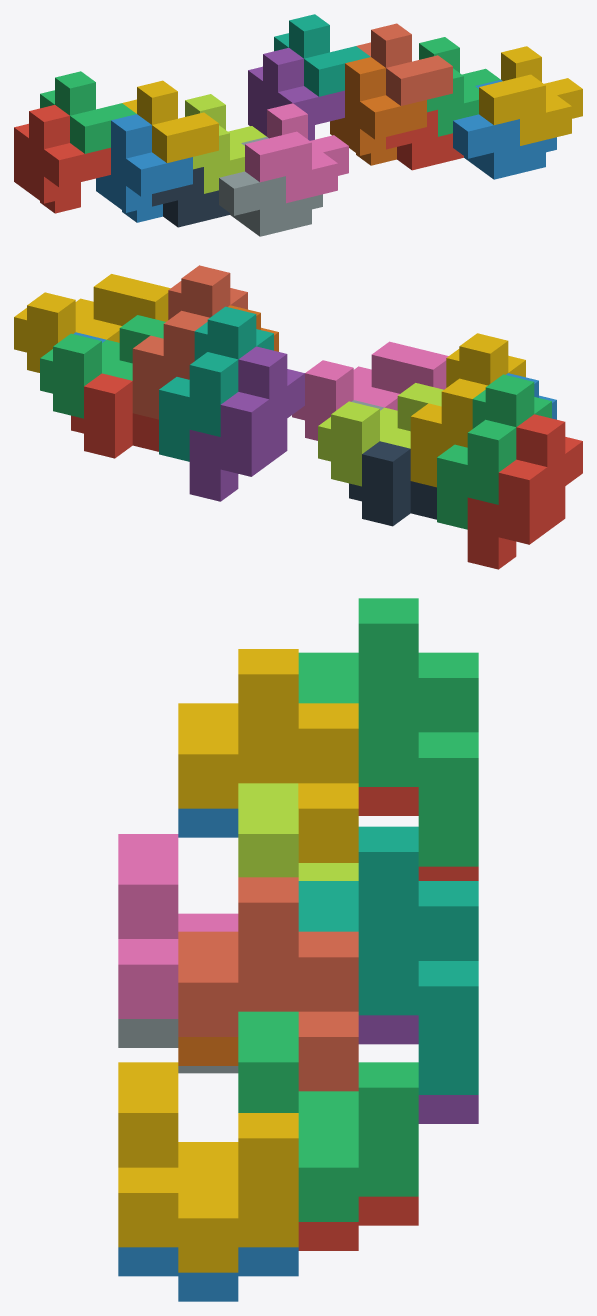
File: tiling.obj
3 views of the same model, one above another, from view 1: azimuth 30°, elevation 25°; view 2: azimuth 150°, elevation 25°; view 3: azimuth 270°, elevation 25° (orthographic). The views are drawn at different scales.
Parts seen in each view (by area): view 1: copy_1_domain_1, copy_2_domain_4, copy_2_domain_8, copy_1_domain_2, copy_1_domain_6, copy_1_domain_5, copy_2_domain_2, copy_2_domain_6, copy_1_domain_4, copy_1_domain_8, copy_1_domain_3, copy_1_domain_7 (+4 smaller); view 2: copy_1_domain_1, copy_1_domain_5, copy_1_domain_3, copy_1_domain_7, copy_2_domain_8, copy_1_domain_4, copy_1_domain_8, copy_2_domain_4, copy_2_domain_3, copy_2_domain_7, copy_2_domain_1, copy_2_domain_5; view 3: copy_1_domain_3, copy_1_domain_7, copy_2_domain_8, copy_1_domain_8, copy_1_domain_4, copy_2_domain_7, copy_2_domain_4, copy_2_domain_3, copy_2_domain_6, copy_1_domain_5, copy_2_domain_5, copy_1_domain_1 (+3 smaller).
Boxes of the visible parts, x1=… form: copy_1_domain_1: x1=14, y1=105, x2=110, y2=213; copy_2_domain_4: x1=245, y1=103, x2=348, y2=203; copy_2_domain_8: x1=479, y1=46, x2=582, y2=145; copy_1_domain_2: x1=96, y1=114, x2=192, y2=222; copy_1_domain_6: x1=330, y1=57, x2=426, y2=165; copy_1_domain_5: x1=248, y1=47, x2=344, y2=140; copy_2_domain_2: x1=219, y1=137, x2=322, y2=236; copy_2_domain_6: x1=453, y1=79, x2=556, y2=179; copy_1_domain_4: x1=122, y1=80, x2=218, y2=162; copy_1_domain_8: x1=356, y1=23, x2=452, y2=105; copy_1_domain_3: x1=40, y1=71, x2=136, y2=153; copy_1_domain_7: x1=274, y1=14, x2=370, y2=96; copy_1_domain_1: x1=467, y1=414, x2=582, y2=569; copy_1_domain_5: x1=189, y1=346, x2=304, y2=501; copy_1_domain_3: x1=437, y1=374, x2=551, y2=529; copy_1_domain_7: x1=159, y1=306, x2=273, y2=461; copy_2_domain_8: x1=14, y1=274, x2=170, y2=372; copy_1_domain_4: x1=410, y1=333, x2=525, y2=487; copy_1_domain_8: x1=132, y1=265, x2=247, y2=419; copy_2_domain_4: x1=292, y1=341, x2=448, y2=440; copy_2_domain_3: x1=318, y1=383, x2=443, y2=486; copy_2_domain_7: x1=40, y1=315, x2=165, y2=418; copy_2_domain_1: x1=349, y1=441, x2=436, y2=526; copy_2_domain_5: x1=71, y1=373, x2=158, y2=458; copy_1_domain_3: x1=298, y1=598, x2=478, y2=866; copy_1_domain_7: x1=298, y1=826, x2=478, y2=1094; copy_2_domain_8: x1=118, y1=1062, x2=298, y2=1272; copy_1_domain_8: x1=178, y1=877, x2=358, y2=1091; copy_1_domain_4: x1=178, y1=649, x2=358, y2=862; copy_2_domain_7: x1=238, y1=1011, x2=418, y2=1221; copy_2_domain_4: x1=118, y1=834, x2=238, y2=1018; copy_2_domain_3: x1=238, y1=783, x2=358, y2=880; copy_2_domain_6: x1=118, y1=1247, x2=298, y2=1301; copy_1_domain_5: x1=358, y1=1015, x2=478, y2=1123; copy_2_domain_5: x1=298, y1=1196, x2=418, y2=1250; copy_1_domain_1: x1=358, y1=787, x2=478, y2=880.
Size of the model in its own units: 19 by 5 by 6.
